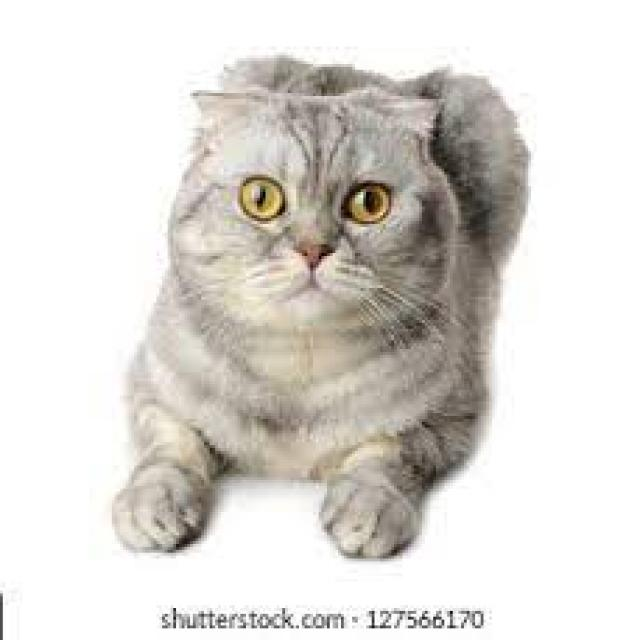Cat: (107, 51, 545, 564)
